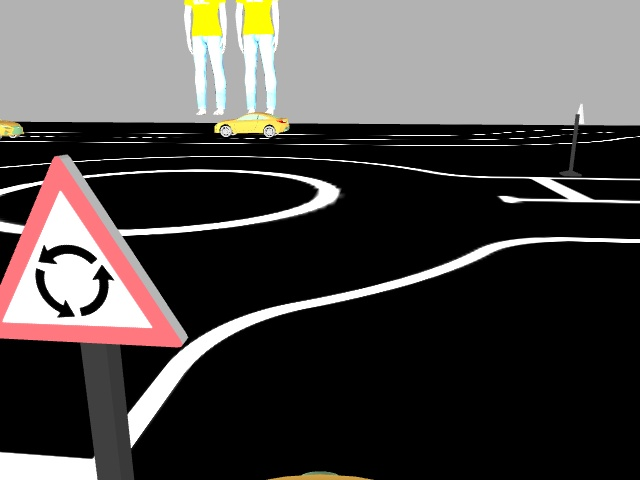Roundabout: (0, 150, 188, 346)
